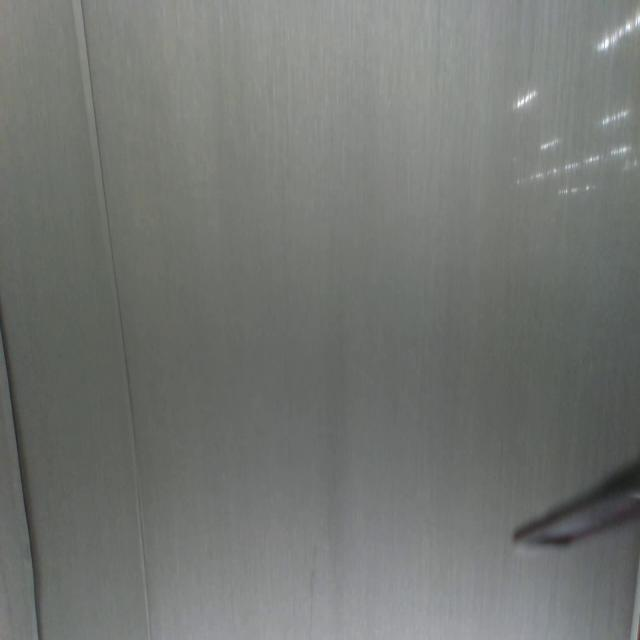crease: (73, 0, 154, 640), (0, 320, 43, 638)
